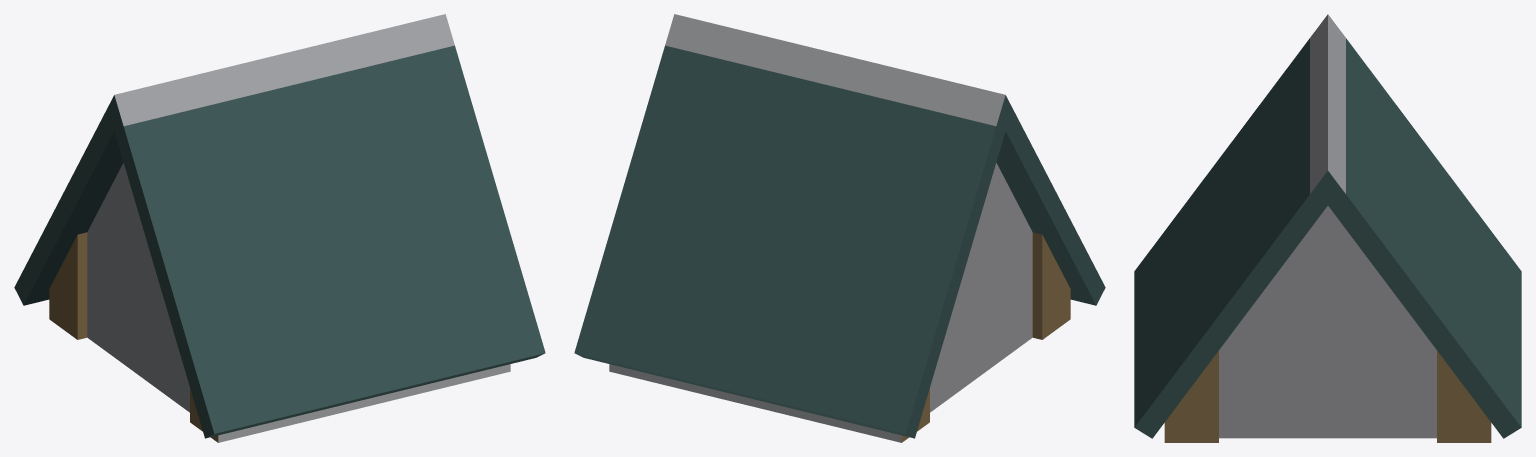
The model's file is Roof_Straight_Green_01.obj.
The picture shows the model from 3 angles, left to right: view 1: azimuth 30°, elevation 25°; view 2: azimuth 150°, elevation 25°; view 3: azimuth 270°, elevation 25°; orthographic projection. The views are drawn at different scales.
Parts seen in each view (by area): view 1: Mesh1_Roof_Straight_Green_Model; view 2: Mesh1_Roof_Straight_Green_Model; view 3: Mesh1_Roof_Straight_Green_Model.
Part boxes in pixels (x1,y1,x2,y2): Mesh1_Roof_Straight_Green_Model: [14, 14, 545, 442]; Mesh1_Roof_Straight_Green_Model: [574, 14, 1105, 442]; Mesh1_Roof_Straight_Green_Model: [1134, 14, 1521, 442].
Size of the model in its own units: 3.4 by 2.86 by 3.56.
